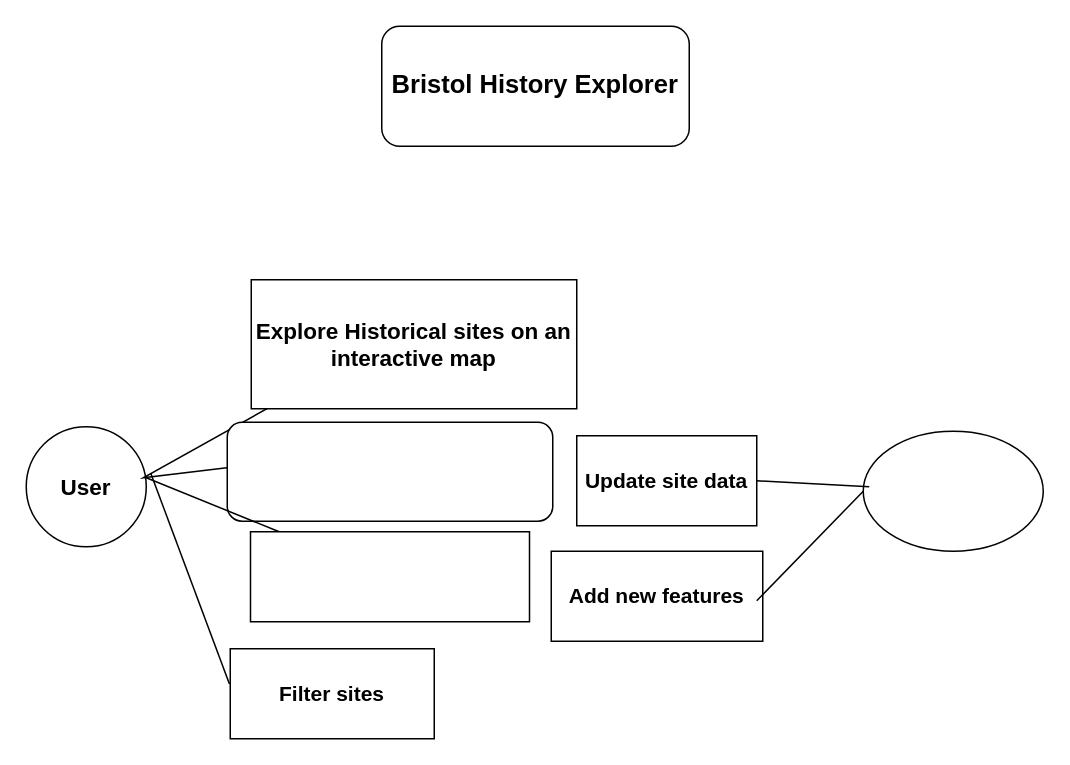
This 1070x765 diagram has some shape labels left out. Here are the shapes that lost their labels. From the top down, the centre of each, then its label:
At (389,471): "The system processes location- based interaction".
At (952,490): "Website manager".
At (389,576): "Search historical sites".
